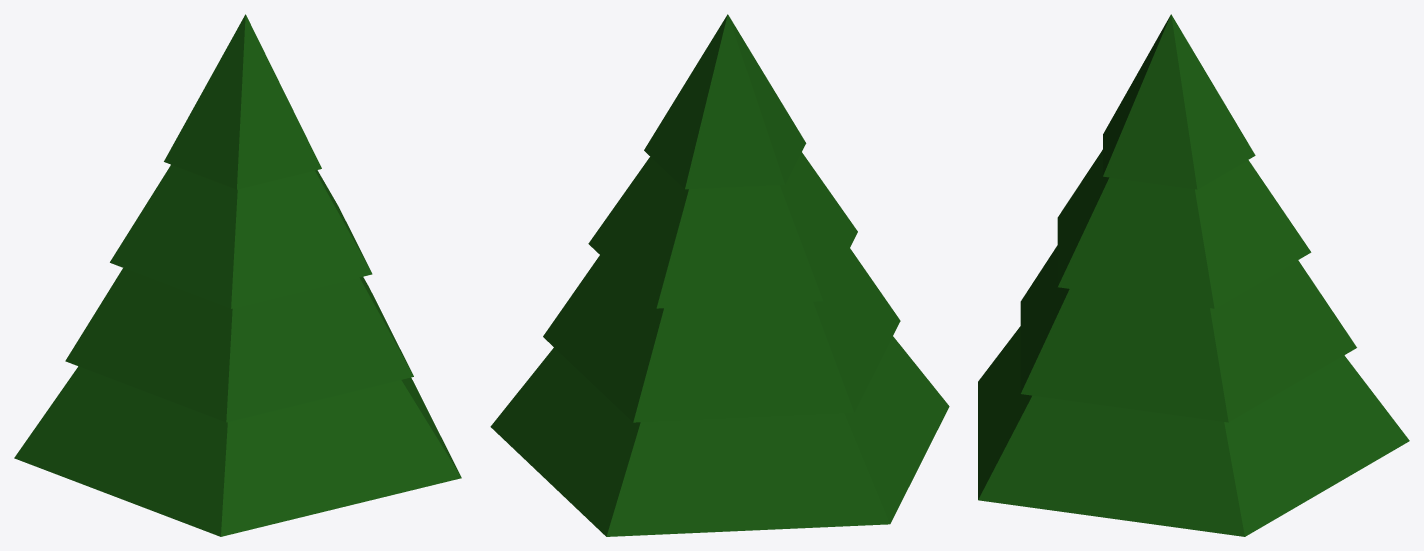
The model's file is Choinka.fbx.
3 views of the same model, side by side, from view 1: azimuth 30°, elevation 25°; view 2: azimuth 150°, elevation 25°; view 3: azimuth 270°, elevation 25° (orthographic). The views are drawn at different scales.
Parts seen in each view (by area): view 1: Choinka; view 2: Choinka; view 3: Choinka.
Part boxes in pixels (<box>): Choinka: <box>14,14,461,536</box>; Choinka: <box>490,14,949,536</box>; Choinka: <box>978,14,1409,536</box>.
Size of the model in its own units: 165 by 200 by 157.
